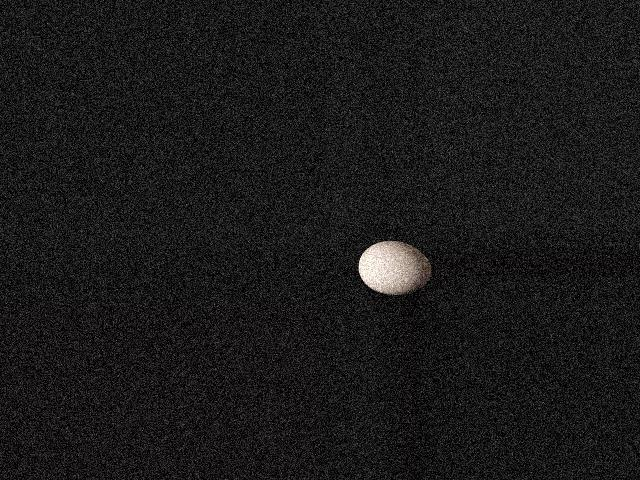egg: (357, 241, 430, 294)
